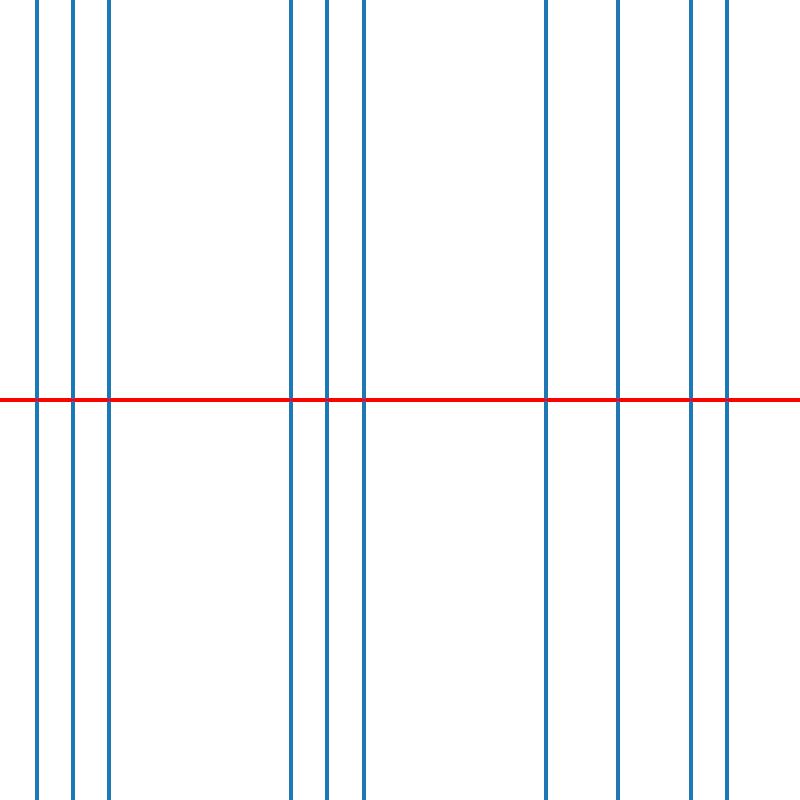root: (541, 396, 549, 404), (32, 396, 40, 404), (614, 396, 621, 404), (287, 396, 294, 404), (323, 396, 330, 404), (69, 396, 76, 404), (360, 396, 367, 404), (687, 396, 694, 404), (723, 396, 730, 404), (105, 396, 112, 404)
